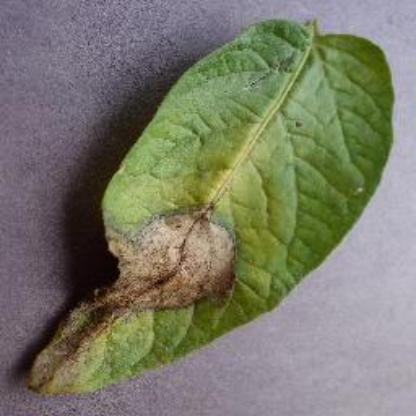Late-Blight: (17, 16, 407, 412)
